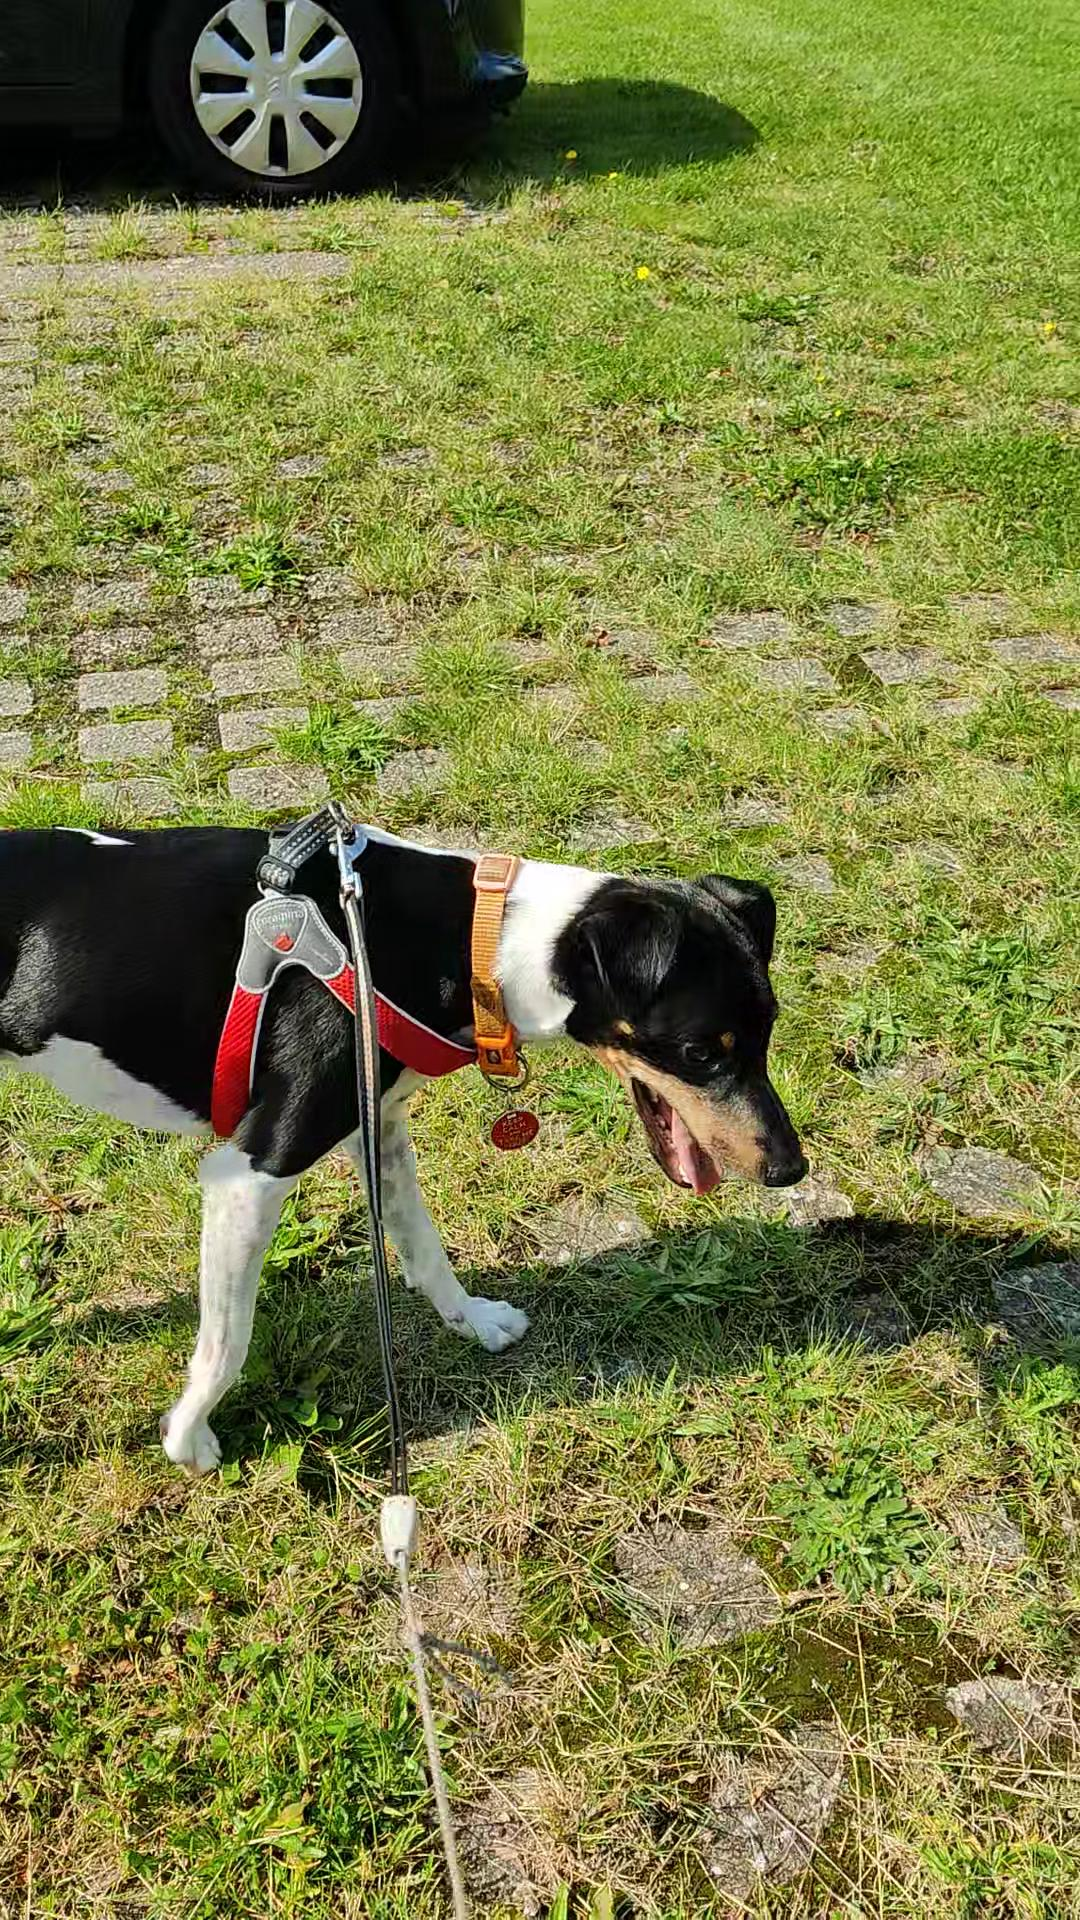Dog: (0, 796, 814, 1477)
